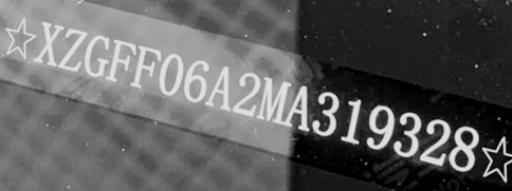letter: (254, 73, 296, 124), (445, 123, 483, 173), (102, 36, 140, 83), (282, 82, 316, 133), (392, 106, 426, 156), (418, 114, 452, 164), (54, 25, 88, 74), (338, 94, 370, 145), (365, 100, 397, 150), (128, 42, 162, 89), (203, 64, 237, 111), (231, 70, 265, 117), (310, 89, 342, 138), (32, 18, 64, 67), (182, 59, 214, 106), (156, 51, 188, 96), (84, 33, 114, 78)
